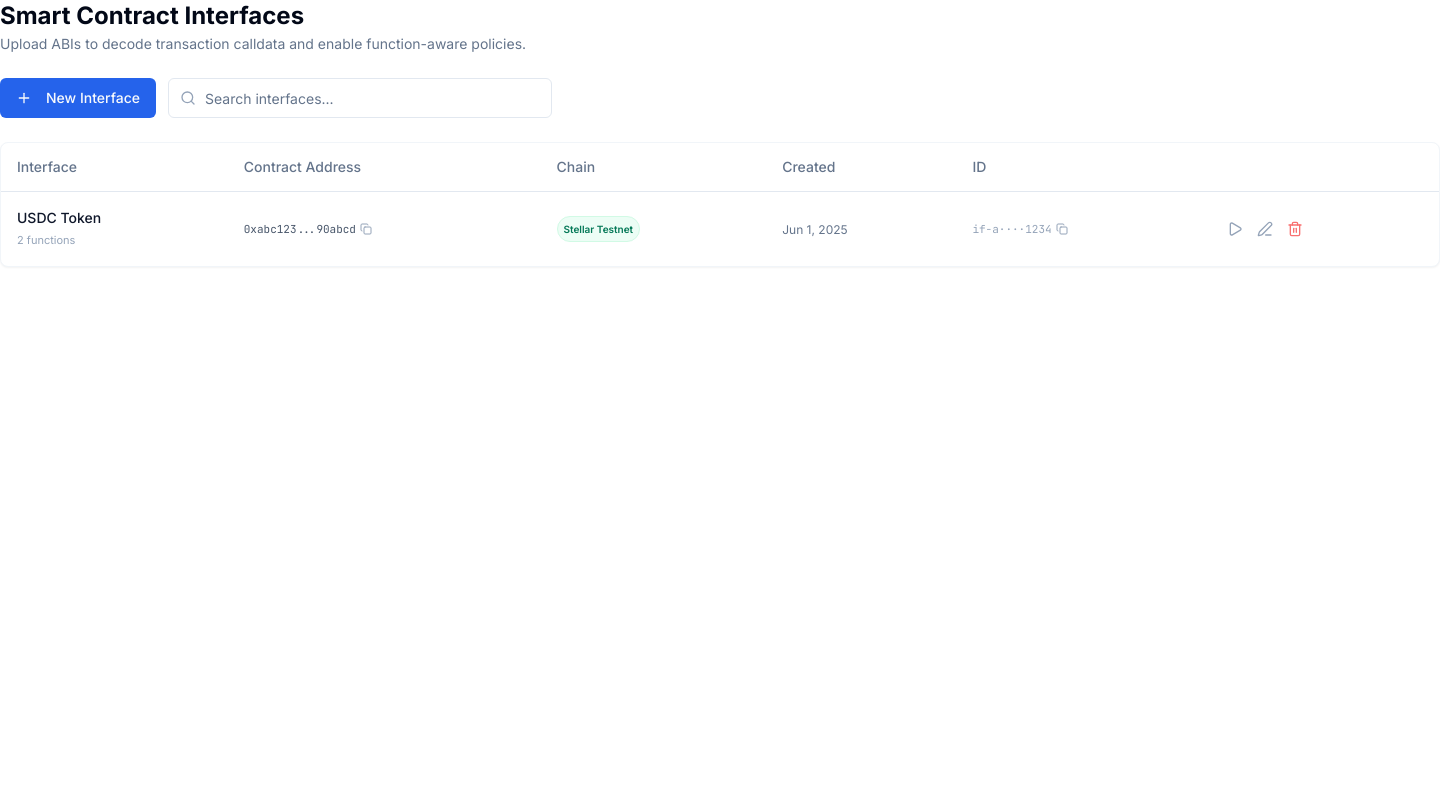
it: Contract Interfaces Page › CRUD operations › opens edit modal
Expected: the text "USDC Token" is shown, [17, 208, 101, 226]
Click the 5th button at (1265, 228), box [1251, 214, 1279, 242]
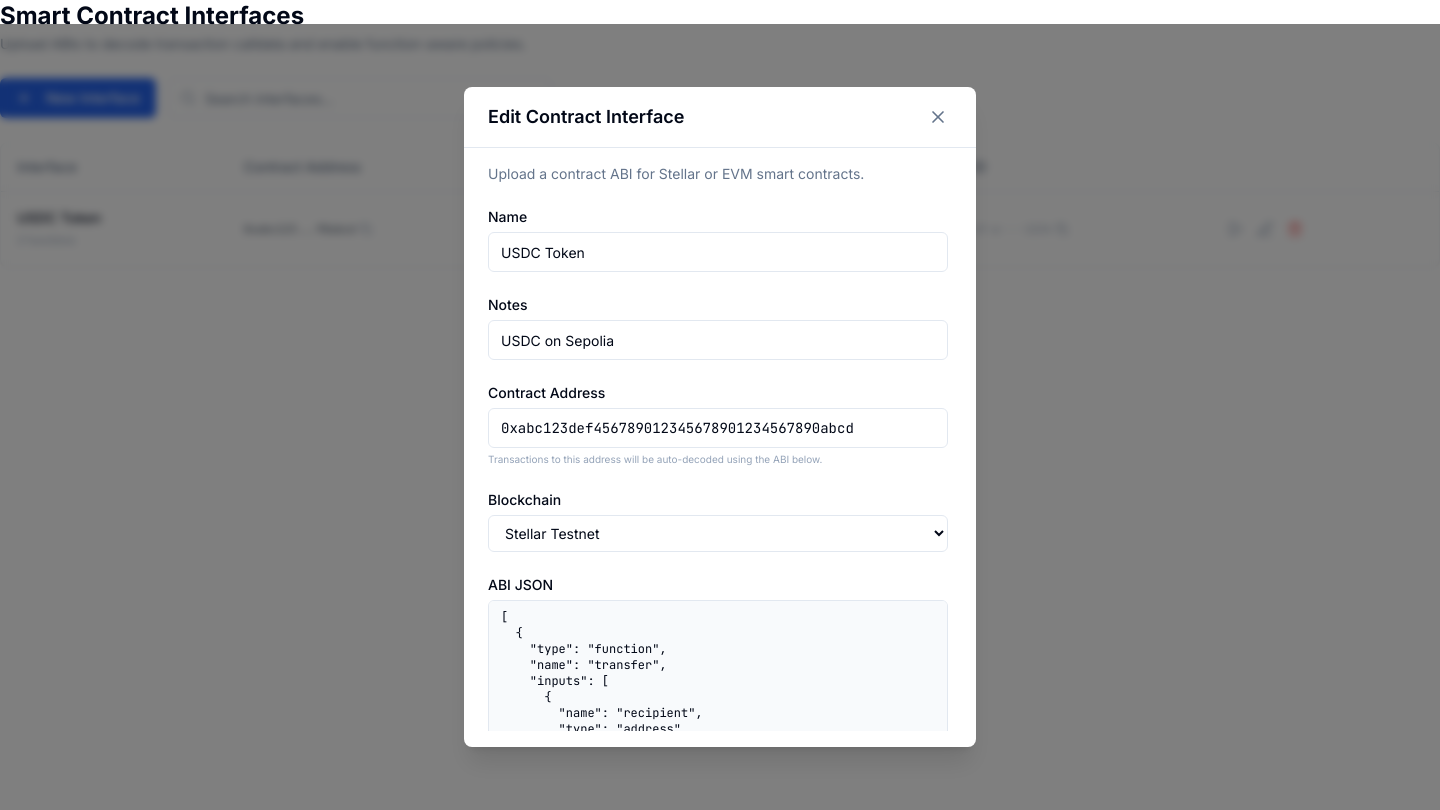
Now the heading "Edit Contract Interface" is shown, box [488, 103, 684, 131]
Now the field with placeholder "e.g. USDC (ERC-20)" below "Name" holds "USDC Token", box [488, 232, 948, 272]
